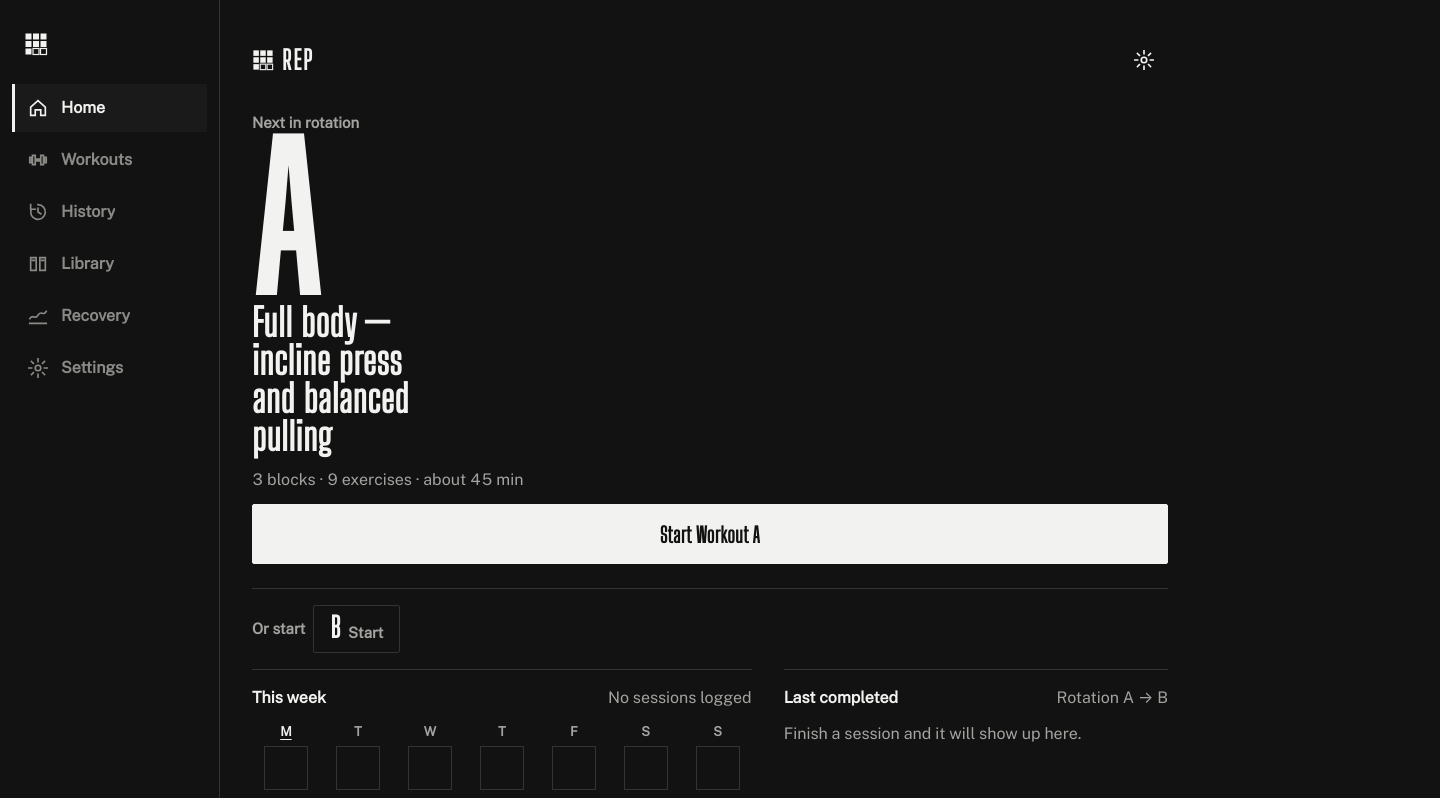
Test: Active workout › confirms before ending with unlogged exercises and saves to history
The image size is (1440, 798).
Click the button "Start Workout A".
click(710, 534)  # box [252,504,1168,564]
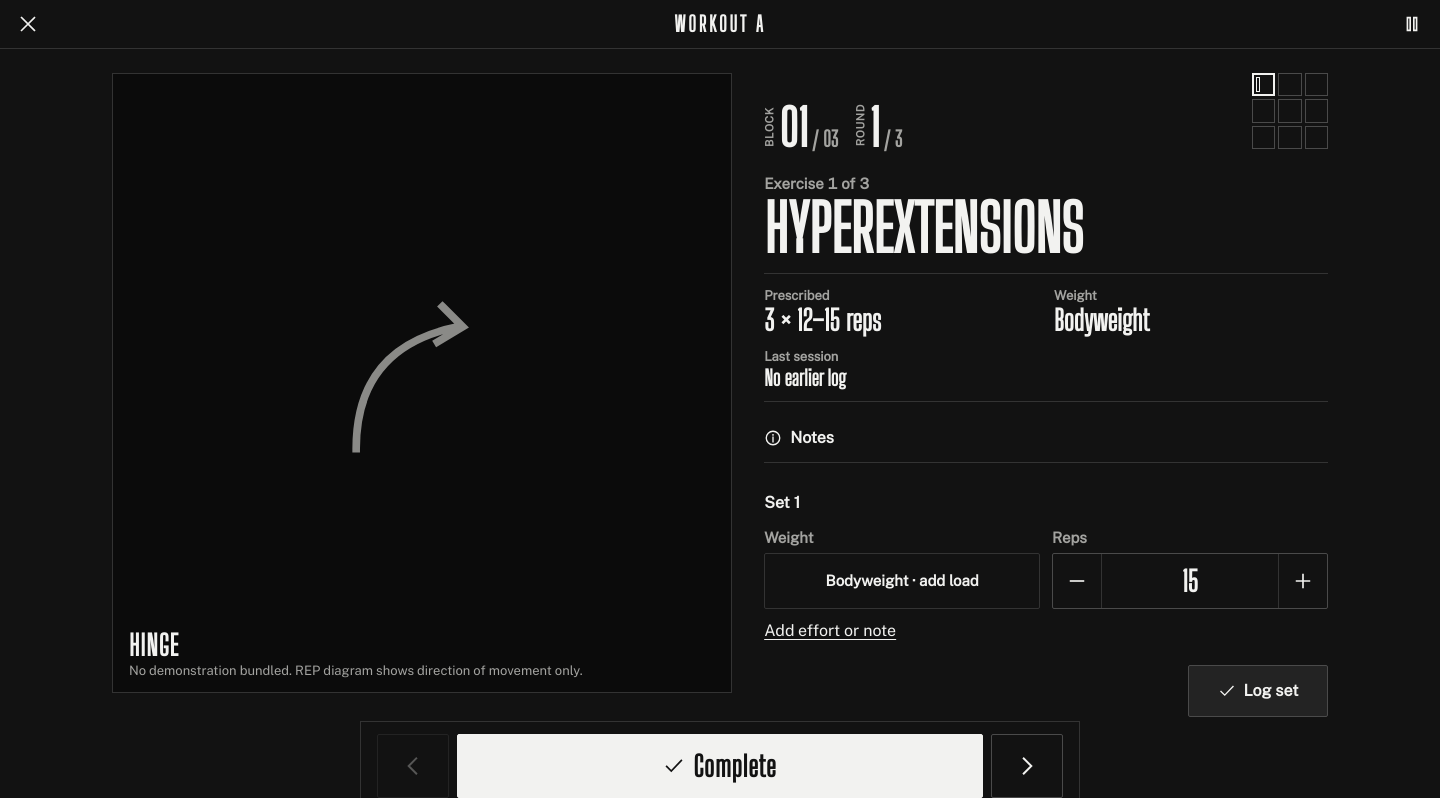
Check: the heading "Hyperextensions" is shown, box [764,190,1083,266]
Click the button named "End workout".
click(28, 24)  # box [4,0,52,48]
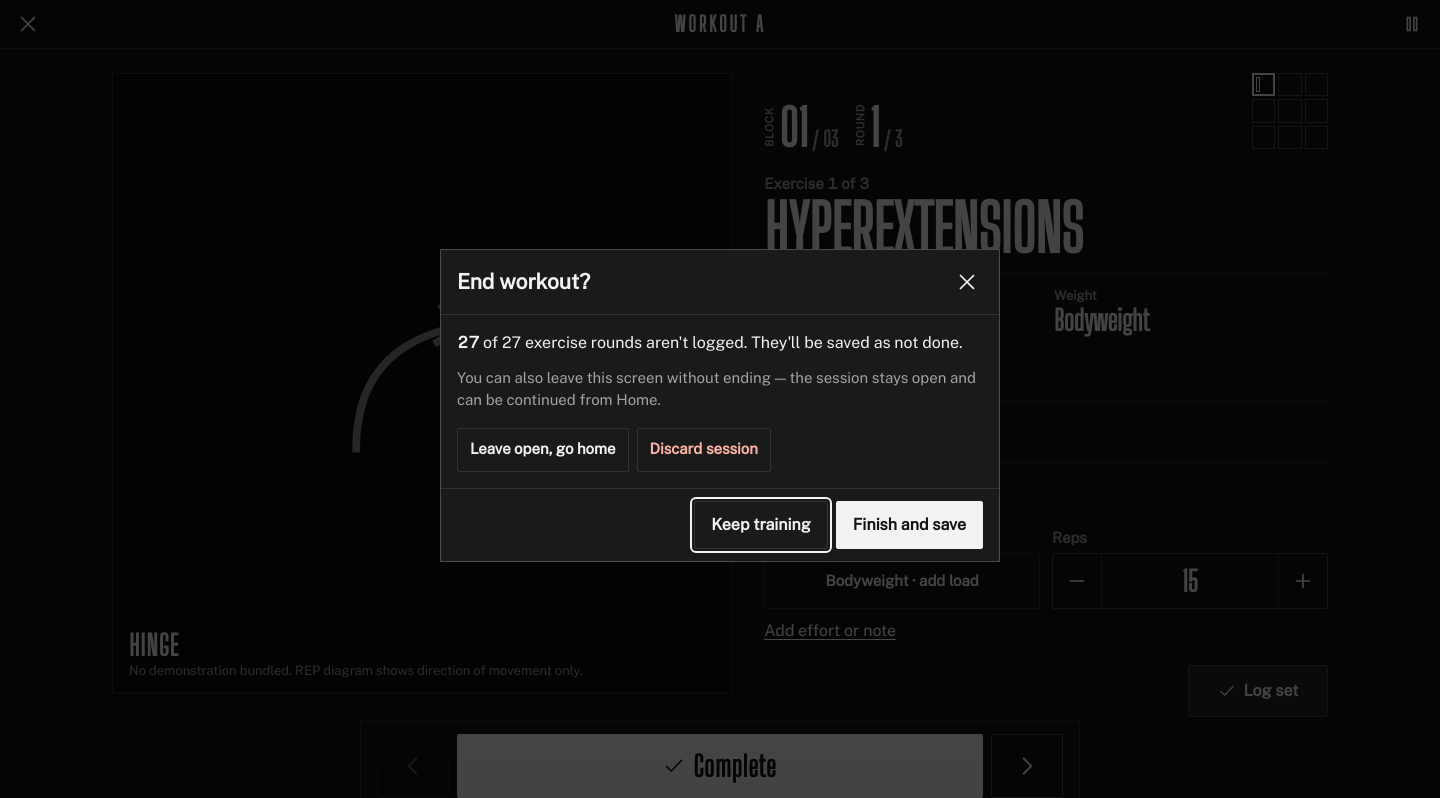
Click the button "Finish and save".
click(909, 524)  # box [836,500,983,548]
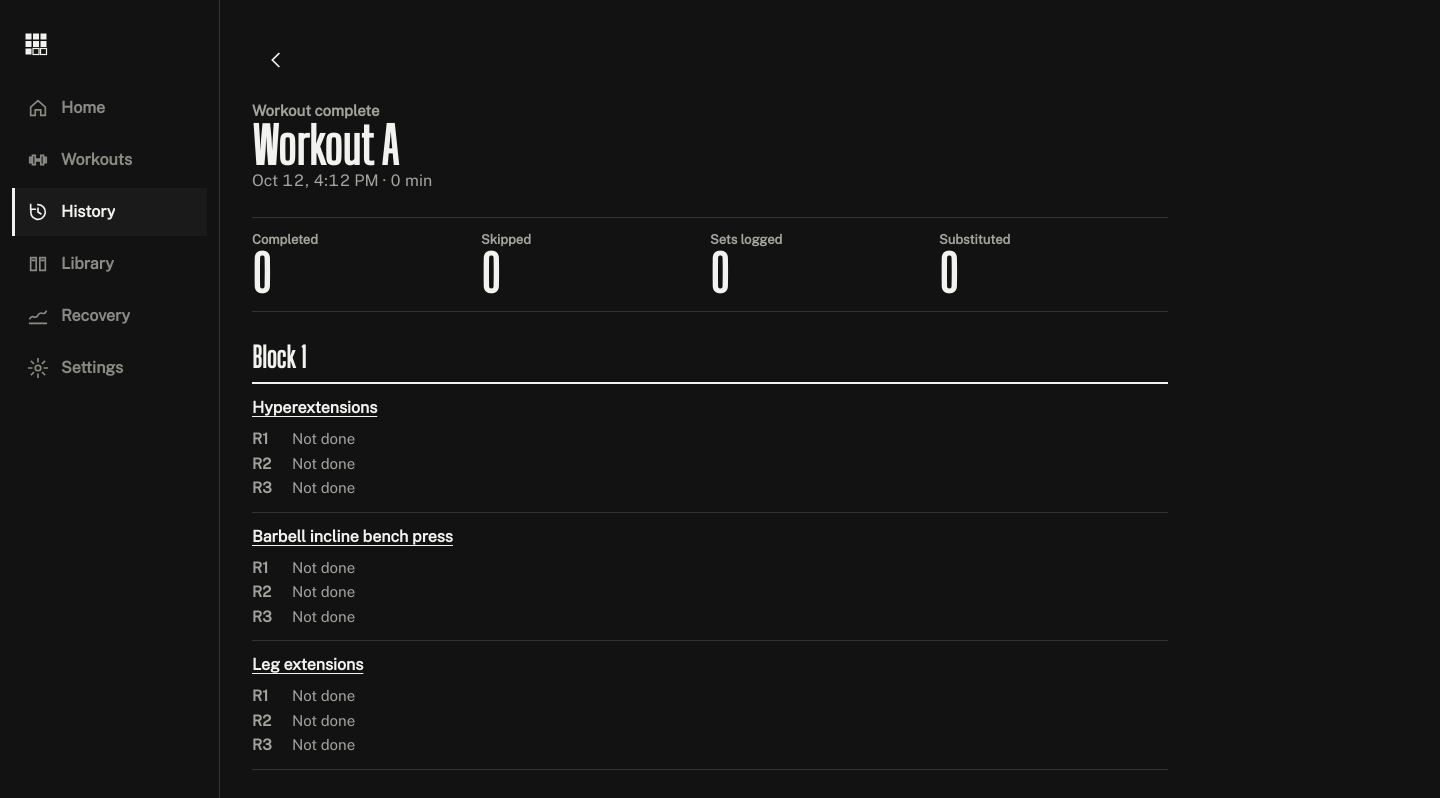
Check: the text "Workout complete" is shown, box [252,102,379,119]
Check: the text "Skipped" shows "0", box [481,244,500,304]
